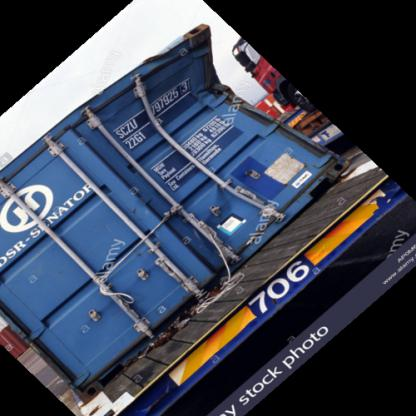Damage: (130, 28, 337, 210)
